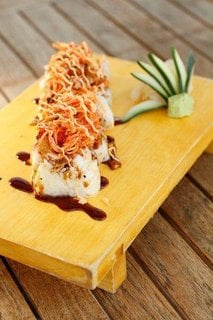sushi: (8, 42, 123, 221)
